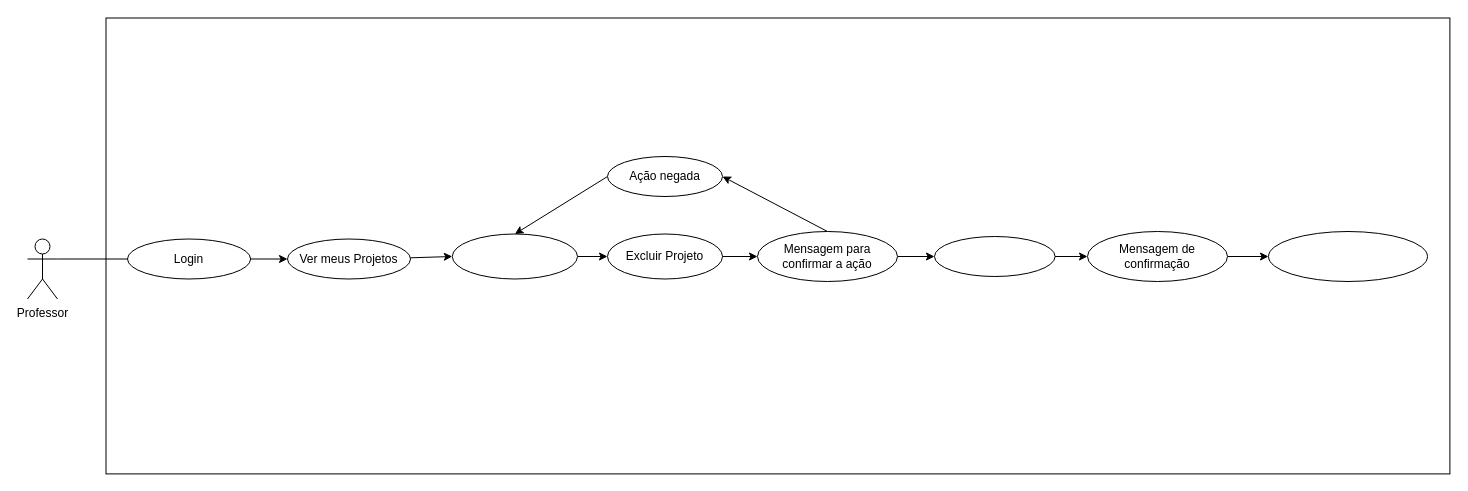
Some shapes in this 1468 by 491 pixel diagram are drawn without their labels. Each missing label, with the centre of its shape:
Excluir do banco: (x=994, y=256)
Selecionar Projeto: (x=514, y=256)
Volta // Tela inicial: (x=1348, y=256)
